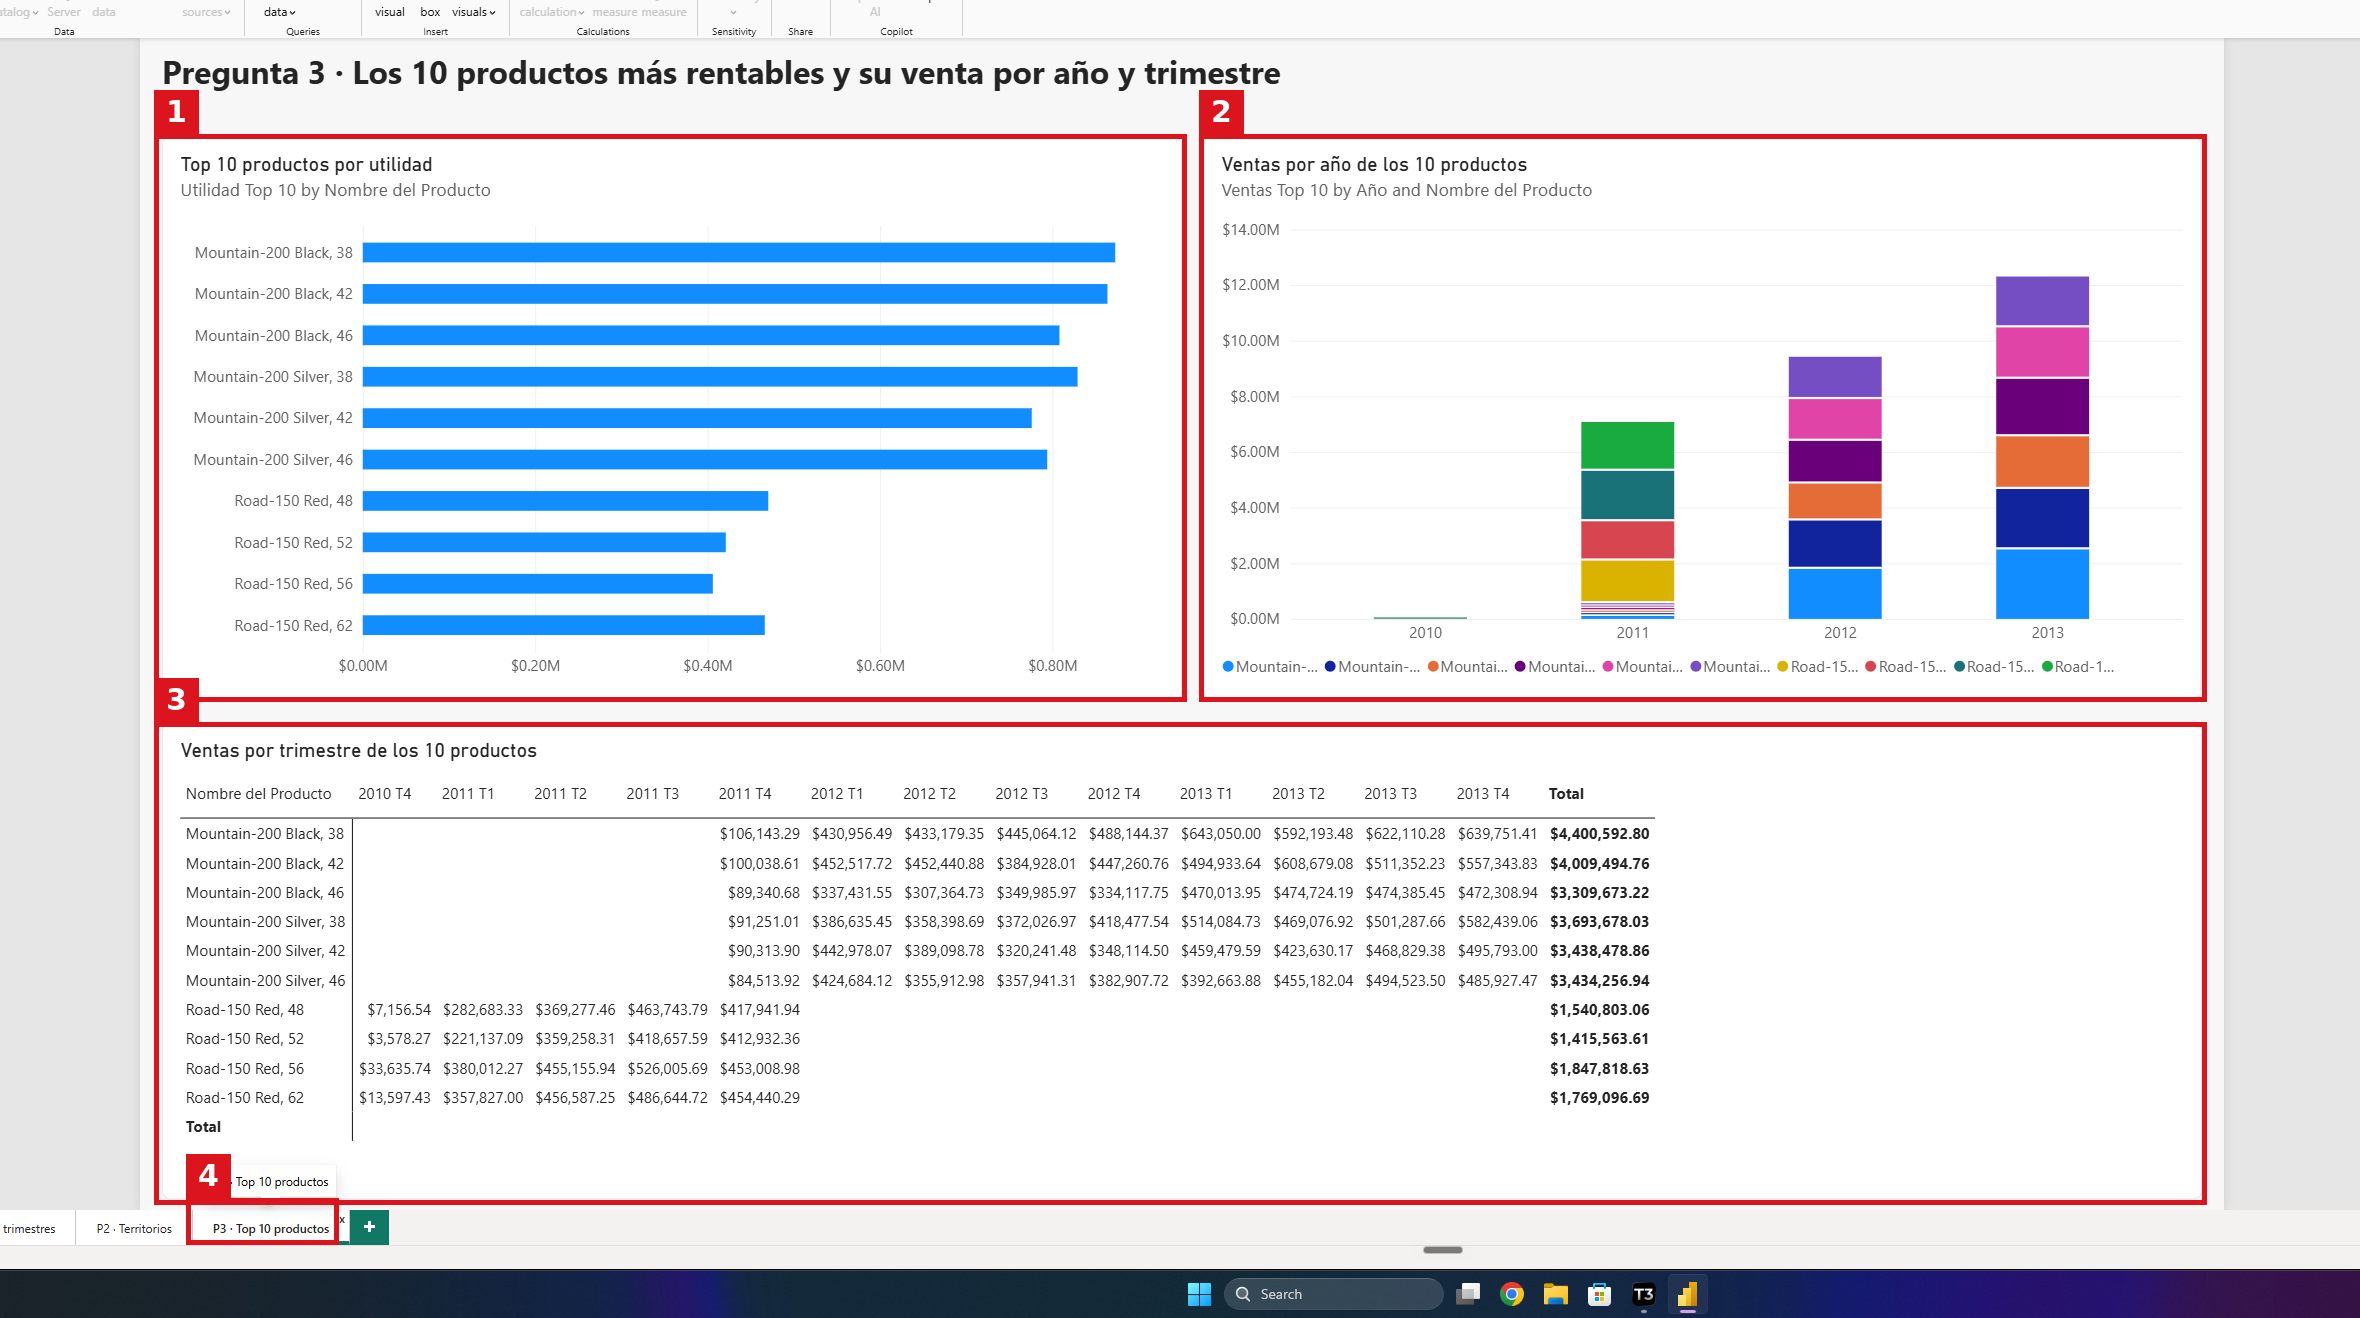

What the dashboard file says about the page in this screenshot:
{"tool":"powerbi","page":{"name":"P3 · Top 10 productos","canvas":[1920,1080],"ordinal":2},"visuals":[{"type":"textbox","box":[20,10,1880,70],"z":0},{"type":"clusteredBarChart","title":"Top 10 productos por utilidad","fields":{"Category":["Producto.Nombre del Producto"],"Y":["Measures.Utilidad Top 10"]},"box":[20,90,940,520],"z":1},{"type":"columnChart","title":"Ventas por año de los 10 productos","fields":{"Category":["Fecha.Año"],"Series":["Producto.Nombre del Producto"],"Y":["Measures.Ventas Top 10"]},"box":[980,90,920,520],"z":2},{"type":"pivotTable","title":"Ventas por trimestre de los 10 productos","fields":{"Rows":["Producto.Nombre del Producto"],"Columns":["Fecha.Trimestre"],"Values":["Measures.Ventas Top 10"]},"box":[20,630,1880,440],"z":3}]}

Visuals, with their boxes on the page's 1920x1080 design canvas (x1, y1, x2, y2). These are canvas units, not pixel positions in the 2360x1318 screenshot, which may show the page scaled, cropped or inside an application window:
textbox: bbox=(20, 10, 1900, 80)
"Top 10 productos por utilidad" clusteredBarChart: bbox=(20, 90, 960, 610)
"Ventas por año de los 10 productos" columnChart: bbox=(980, 90, 1900, 610)
"Ventas por trimestre de los 10 productos" pivotTable: bbox=(20, 630, 1900, 1070)
